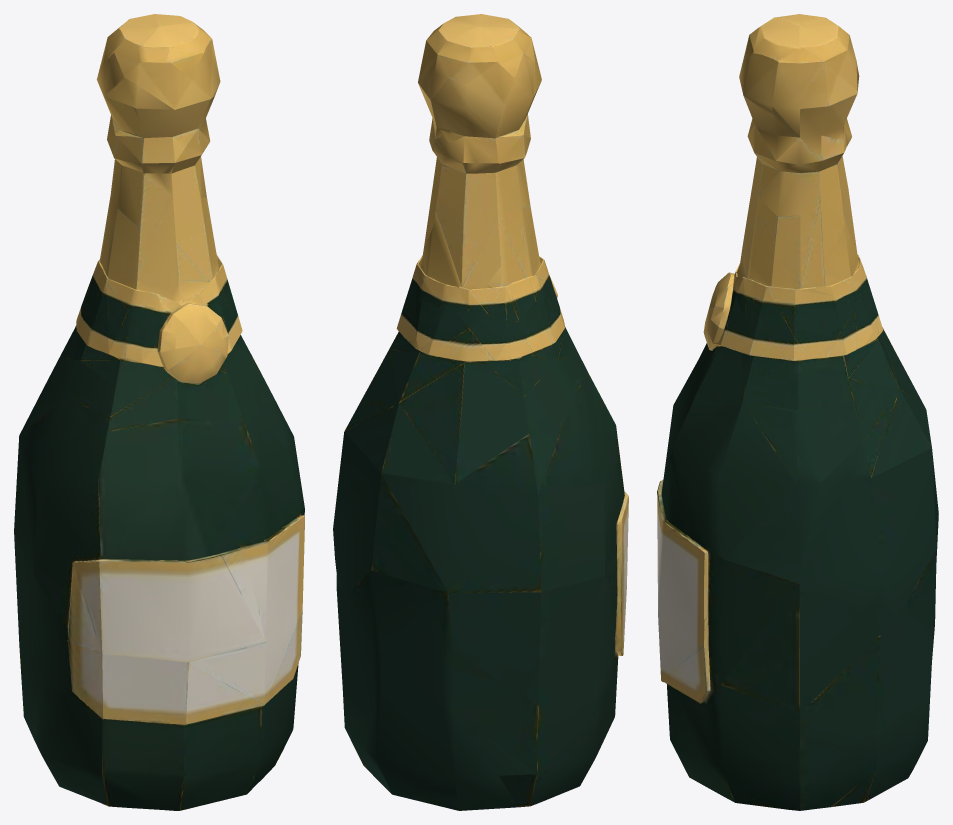
Rendered from bottle.glb.
3 views of the same model, side by side, from view 1: azimuth 30°, elevation 25°; view 2: azimuth 150°, elevation 25°; view 3: azimuth 270°, elevation 25° (orthographic).
Visible parts, largest first — view 1: Mesh_0; view 2: Mesh_0; view 3: Mesh_0.
Boxes of the visible parts, x1=… form: Mesh_0: x1=14, y1=14, x2=304, y2=810; Mesh_0: x1=333, y1=14, x2=628, y2=810; Mesh_0: x1=657, y1=14, x2=938, y2=810.
Size of the model in its own units: 0.7147 by 2 by 0.6939.
1 material, 1 textured.
